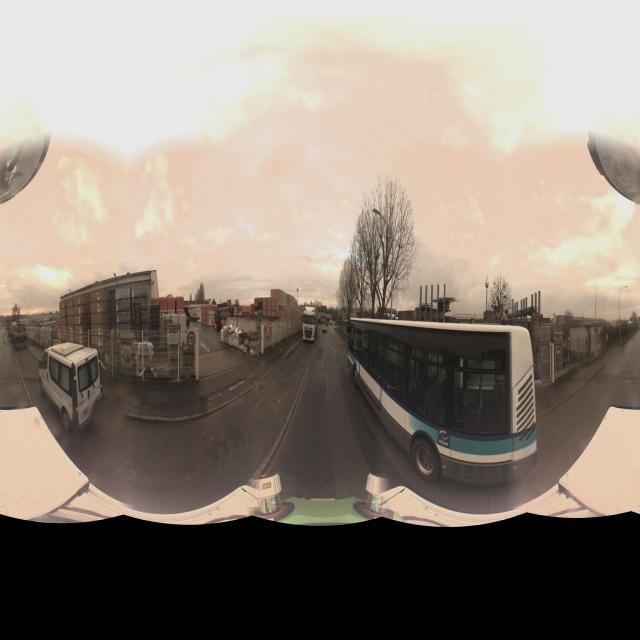car: (321, 320, 327, 332)
